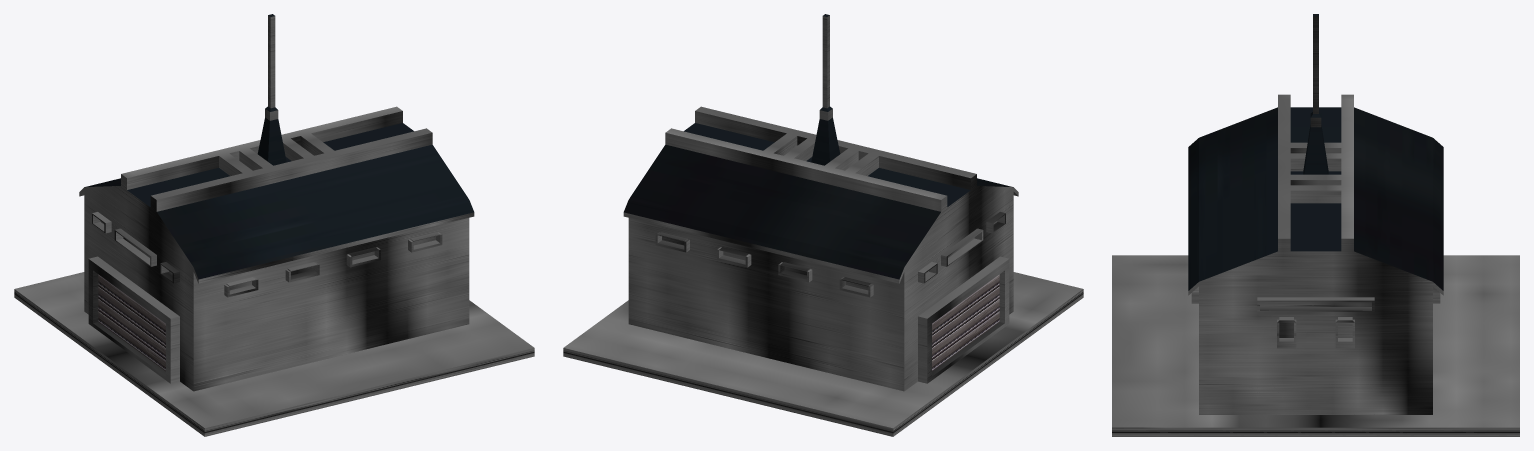
File: arsenal.fbx
The picture shows the model from 3 angles, left to right: view 1: azimuth 30°, elevation 25°; view 2: azimuth 150°, elevation 25°; view 3: azimuth 270°, elevation 25°; orthographic projection. The views are drawn at different scales.
Parts seen in each view (by area): view 1: Cube.012; view 2: Cube.012; view 3: Cube.012.
Boxes of the visible parts, x1=… form: Cube.012: x1=14, y1=14, x2=534, y2=436; Cube.012: x1=563, y1=14, x2=1083, y2=436; Cube.012: x1=1112, y1=14, x2=1519, y2=436.
Bounding box in the file's own units: 2000 × 1809 × 2000.
Materials: 3 (3 with a texture image).
